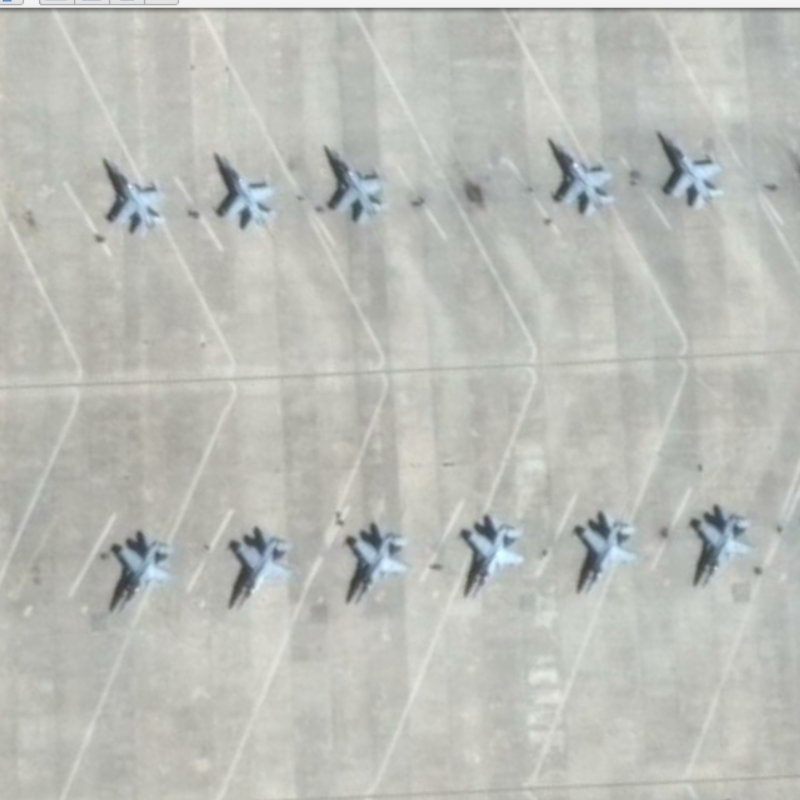A16: (562, 502, 644, 602), (102, 524, 183, 616), (92, 149, 172, 242), (542, 131, 623, 222), (311, 141, 393, 230), (334, 517, 410, 610), (679, 500, 758, 589), (202, 147, 280, 237), (655, 122, 729, 216), (454, 509, 529, 600), (221, 522, 295, 612)
